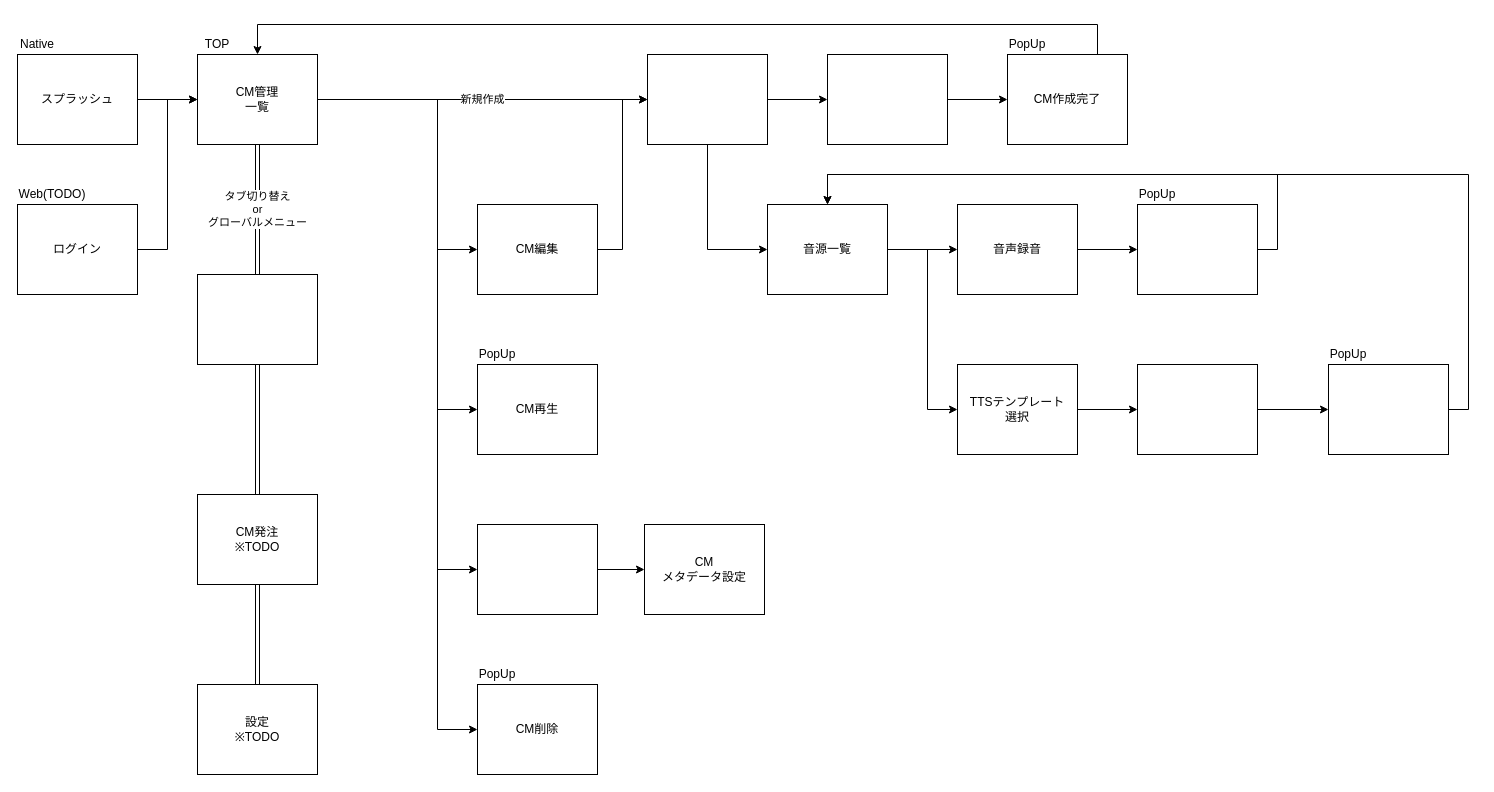
Some shapes in this 1494 by 792 pixel diagram are drawn without their labels. Here are the shapes that lost their labels. From the top down, the centre of each, then its label:
point (707, 99): CM作成
point (887, 99): CMタイトル タグ設定
point (1197, 249): 音声録音完了
point (257, 319): オリジナル管理 新規作成/削除
point (1197, 409): TTS録音
point (1388, 409): TTS録音完了
point (537, 569): センター アップロード
